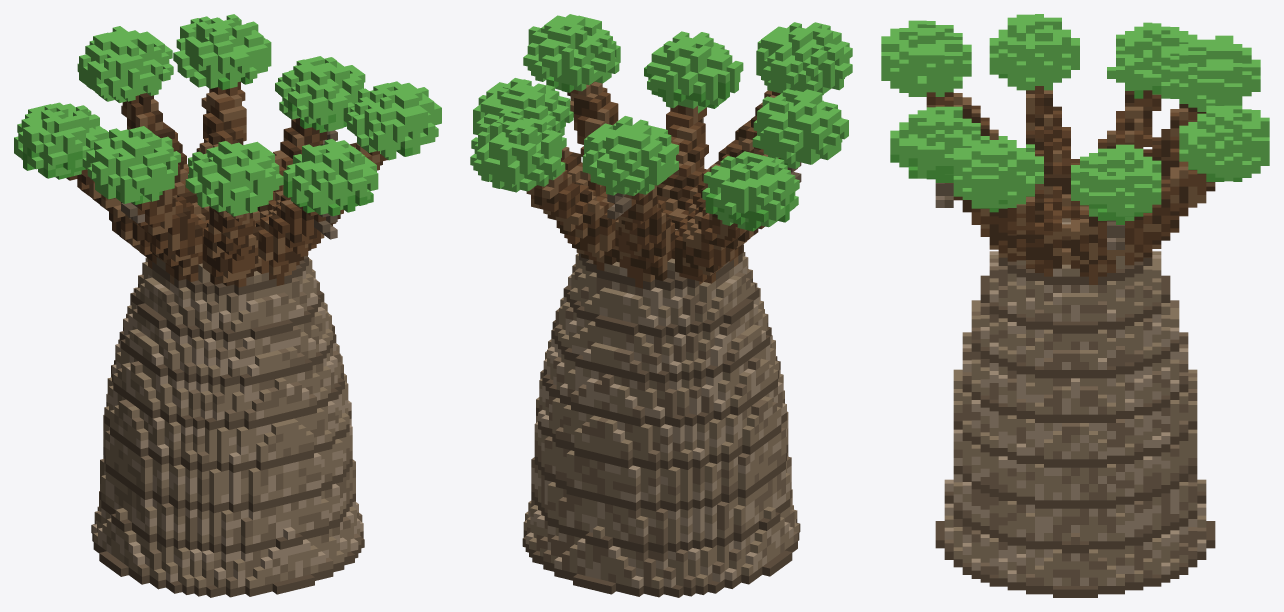
File: arbre-baobab.glb
3 renders of one model, left to right at view 1: azimuth 30°, elevation 25°; view 2: azimuth 150°, elevation 25°; view 3: azimuth 270°, elevation 25°, orthographic. The views are drawn at different scales.
Visible parts, largest first — view 1: arbre-baobab; view 2: arbre-baobab; view 3: arbre-baobab.
Part boxes in pixels (left/top/right/bottom): arbre-baobab: left=14, top=14, right=441, bottom=597; arbre-baobab: left=470, top=14, right=852, bottom=597; arbre-baobab: left=881, top=14, right=1269, bottom=597.
Bounding box in the file's own units: 5.38 × 7.25 × 5.38.
